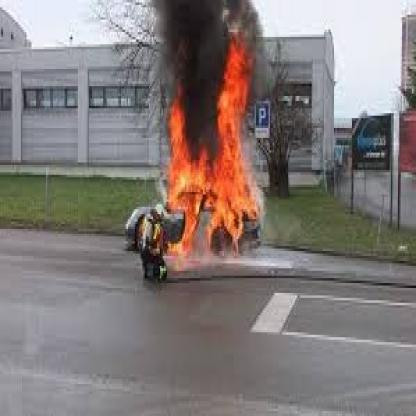fire: (129, 51, 271, 260)
